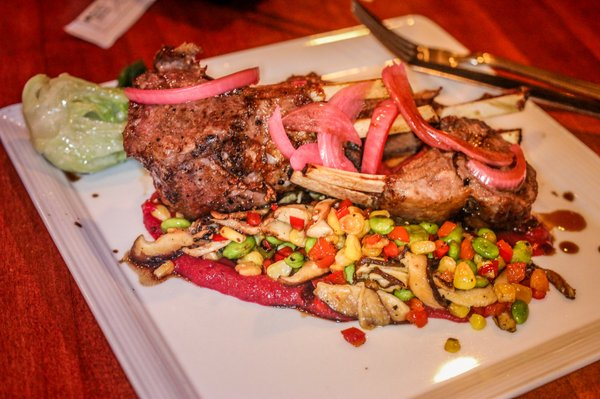burger: (352, 2, 600, 120)
sandwich: (351, 2, 600, 119)
